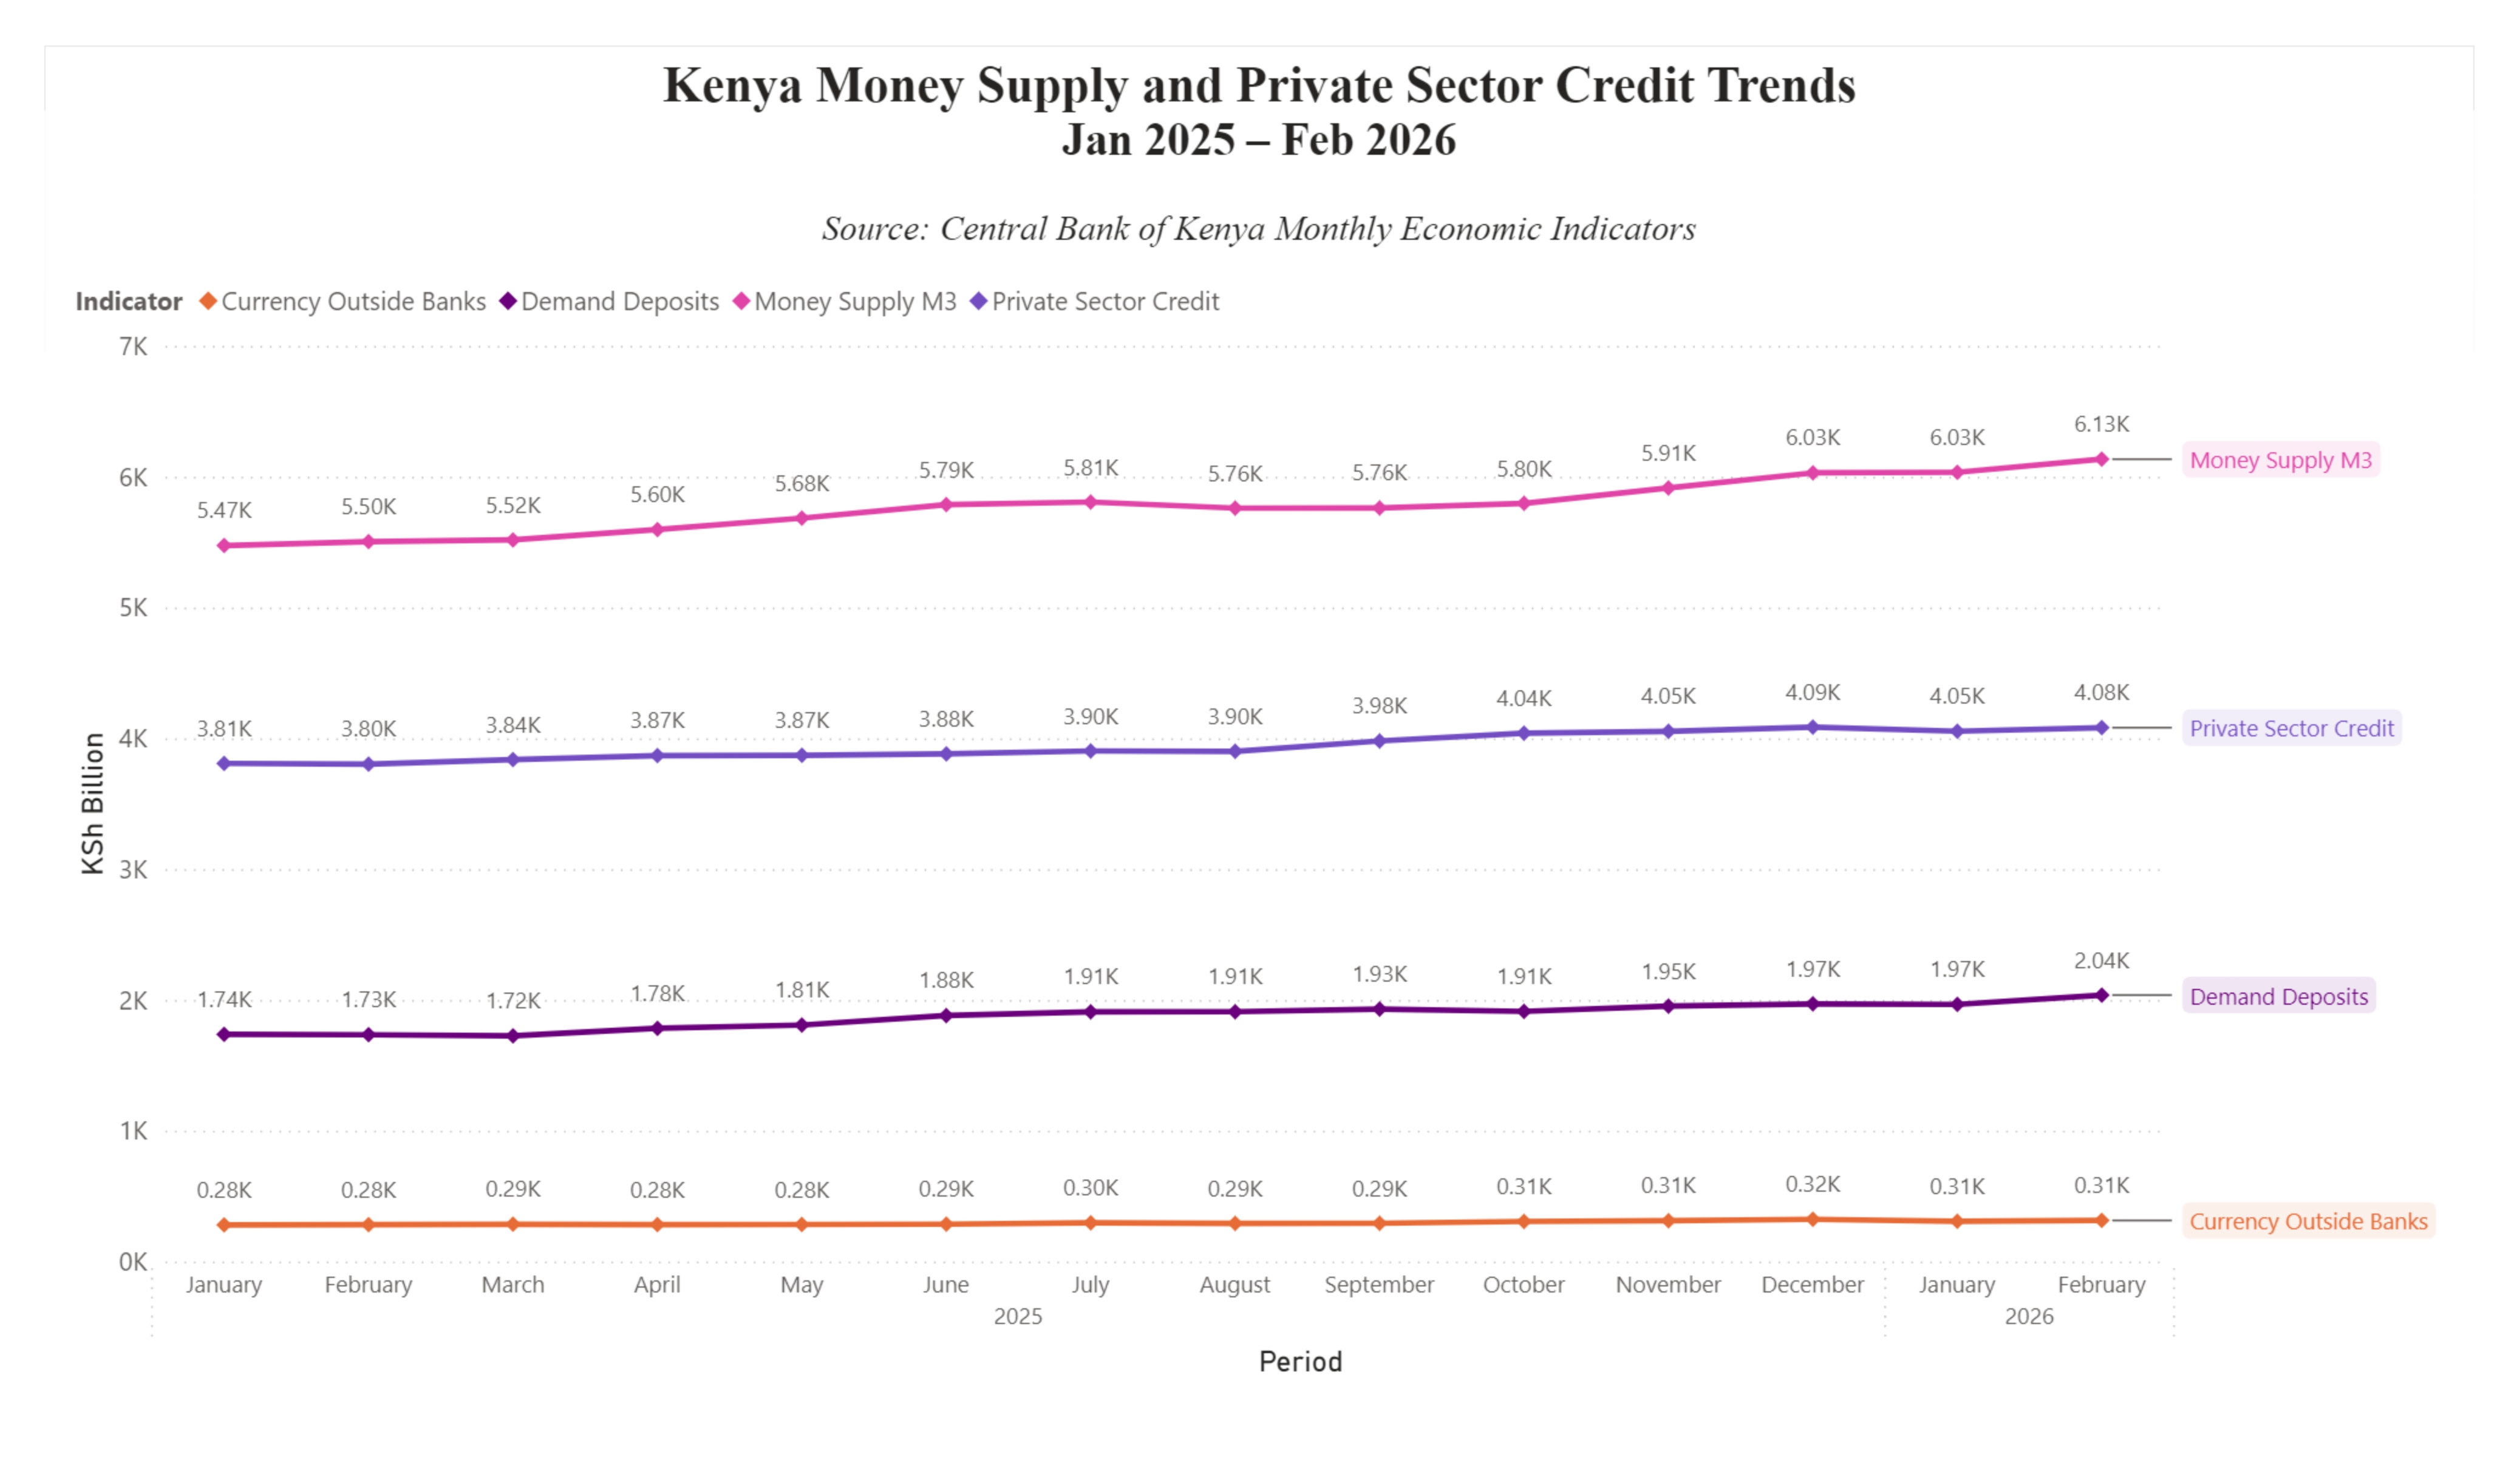

The page's visual inventory and layout, read from the dashboard file:
{"tool":"powerbi","page":{"name":"Overview","canvas":[1280,720],"ordinal":1},"visuals":[{"type":"textbox","box":[0,0,1280,80],"z":0},{"type":"textbox","box":[0,80,1280,48.6],"z":1000},{"type":"lineChart","fields":{"Y":["Sum(PowerBI_Data.Value)"],"Series":["PowerBI_Data.Indicator"],"Category":["PowerBI_Data.Date.Variation.Date Hierarchy.Year","PowerBI_Data.Date.Variation.Date Hierarchy.Month"]},"box":[10.7,118.7,1254.7,585.3],"z":2000}]}

Visuals, with their boxes on the page's 1280x720 design canvas (x1, y1, x2, y2). These are canvas units, not pixel positions in the 2520x1457 screenshot, which may show the page scaled, cropped or inside an application window:
textbox: 0/0/1280/80
textbox: 0/80/1280/129
lineChart - Sum(PowerBI_Data.Value) x PowerBI_Data.Indicator: 11/119/1265/704
